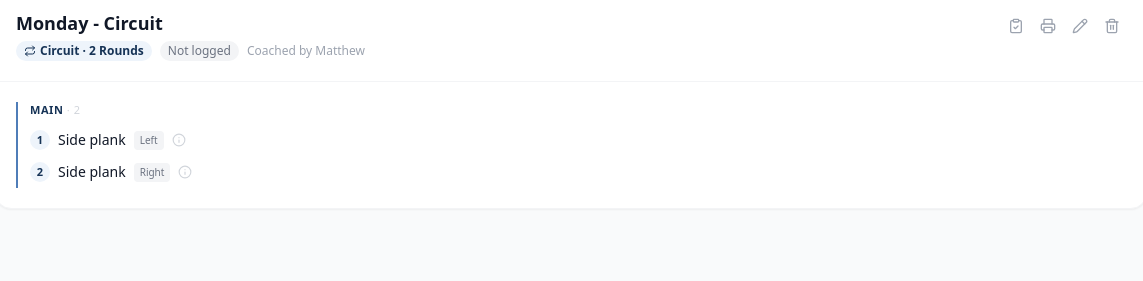
Test: WorkoutTemplateCard — exercise descriptions (SB-525) › opens each item independently, so L and R can be compared
What coordinates should you click on to do the following:
click the button with test id "describe-side_plank" showing "1 Side plank left"
I would click on:
 (108, 140)
Its box is [30,126,186,154].
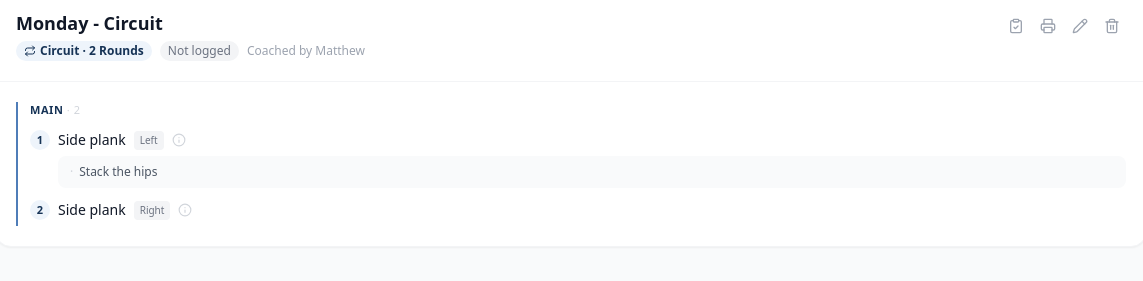
What coordinates should you click on to do the following:
click the button with test id "describe-side_plank" showing "2 Side plank right"
I would click on:
 (111, 210)
Its box is [30,196,192,224].
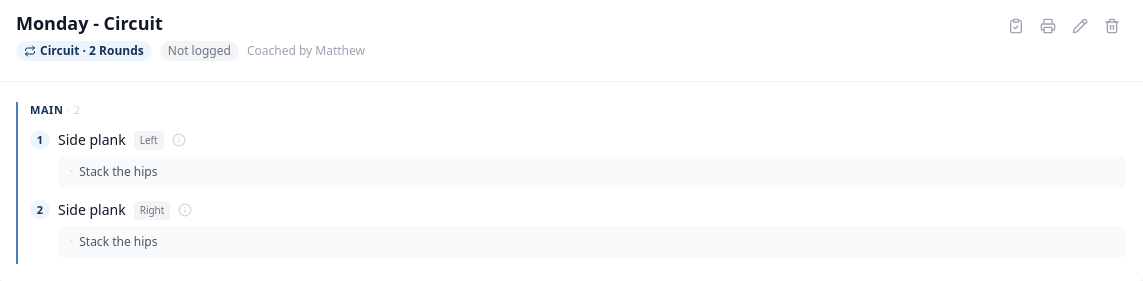
Expected: the number of elements with test id "exercise-description" is 2, [58,156,1126,188]; [58,226,1126,258]
